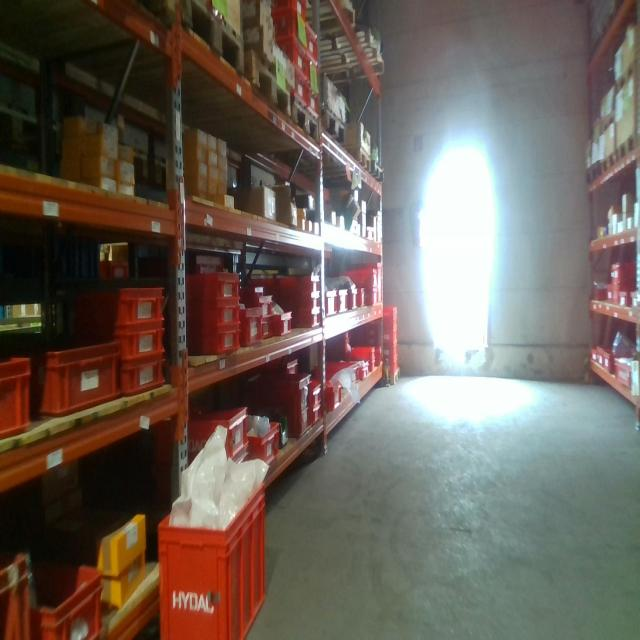pallet: (178, 0, 248, 78), (248, 46, 293, 125), (289, 95, 320, 146), (318, 108, 349, 144), (342, 145, 372, 181), (616, 127, 636, 167), (614, 59, 634, 94), (596, 110, 617, 141), (599, 151, 616, 186), (583, 161, 601, 186), (372, 163, 386, 188), (388, 366, 400, 385)
small_load_carrier: (153, 476, 270, 638), (28, 328, 121, 420), (37, 546, 106, 636), (52, 279, 166, 323), (182, 401, 254, 461), (255, 367, 309, 441), (0, 544, 40, 638), (2, 350, 32, 449), (110, 362, 170, 402), (110, 323, 168, 362), (181, 327, 239, 361), (178, 298, 245, 327), (244, 271, 323, 295), (249, 419, 282, 473), (268, 8, 306, 52), (181, 269, 245, 295), (320, 59, 386, 83), (268, 42, 307, 82), (609, 260, 635, 309), (357, 261, 382, 311), (327, 358, 370, 384), (237, 304, 261, 347), (321, 378, 345, 414), (603, 345, 630, 376), (279, 291, 318, 311), (275, 307, 296, 341), (613, 356, 634, 390), (289, 310, 319, 332), (348, 270, 377, 292), (267, 2, 306, 18), (306, 60, 321, 99), (291, 74, 308, 107), (324, 289, 340, 323), (254, 318, 273, 345), (339, 283, 353, 319), (254, 294, 274, 318), (305, 87, 319, 120), (308, 28, 320, 63), (345, 347, 377, 360), (307, 379, 322, 404), (347, 285, 359, 316), (617, 287, 630, 309), (310, 403, 323, 424), (366, 288, 381, 306), (385, 307, 397, 328), (382, 344, 398, 359), (384, 329, 398, 346), (356, 287, 365, 313), (365, 360, 377, 378), (383, 361, 396, 373)
